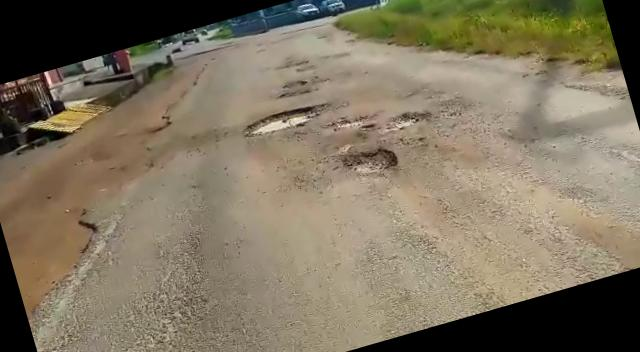pothole: (240, 97, 334, 143), (340, 140, 401, 182), (381, 104, 433, 135), (321, 110, 373, 138)
